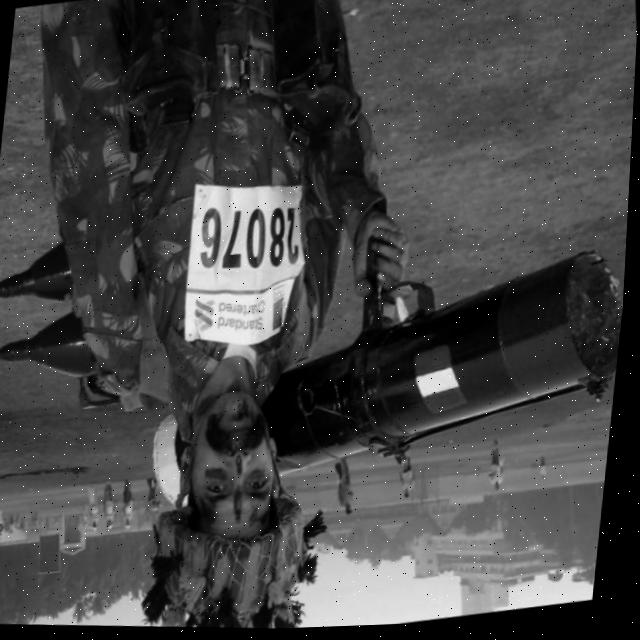rocket: (258, 224, 630, 511)
